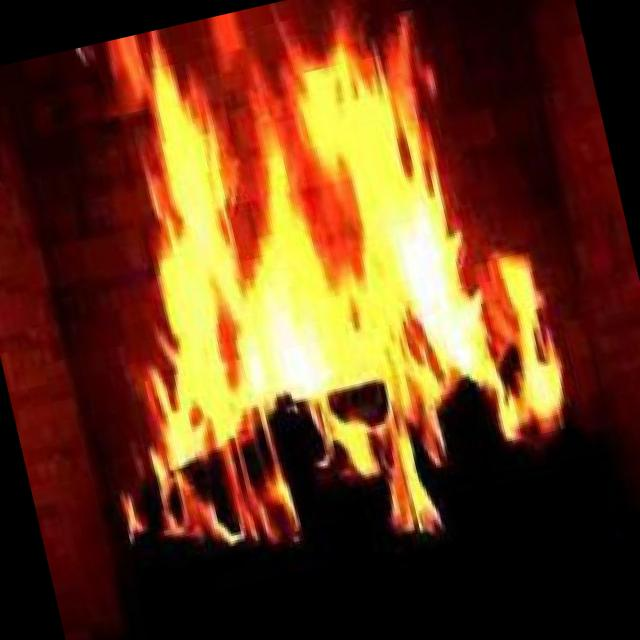Fire: (10, 0, 606, 613)
